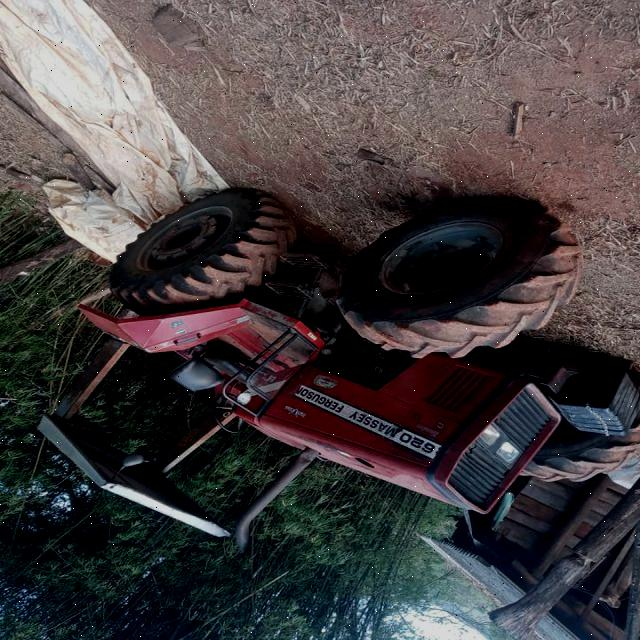Tratores - v5 YOLO V8L 2024-11-13: (29, 188, 615, 552)
